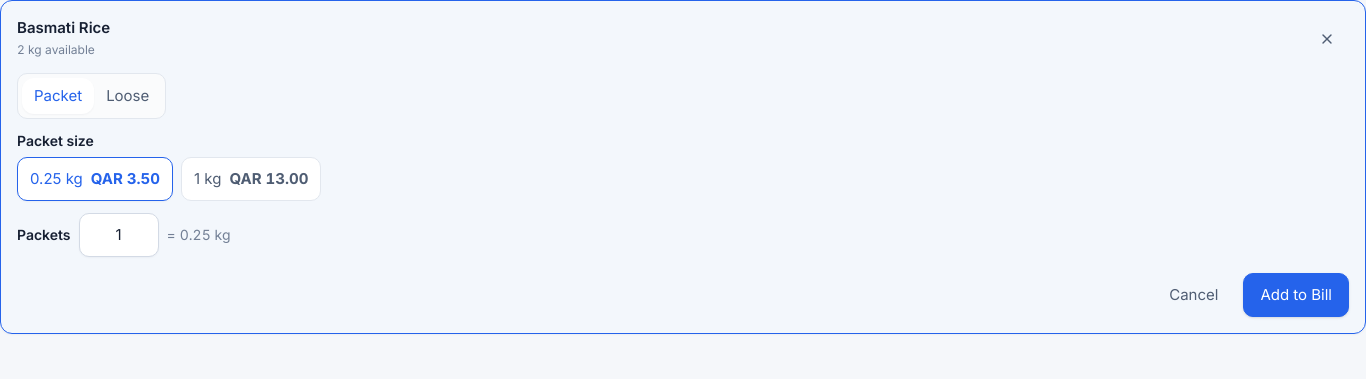
Test case: PricingPanel › rejects a packet count whose total exceeds the shared pool
Step 1. Click the button "1 kg" → (251, 179), box [181,157,321,201]
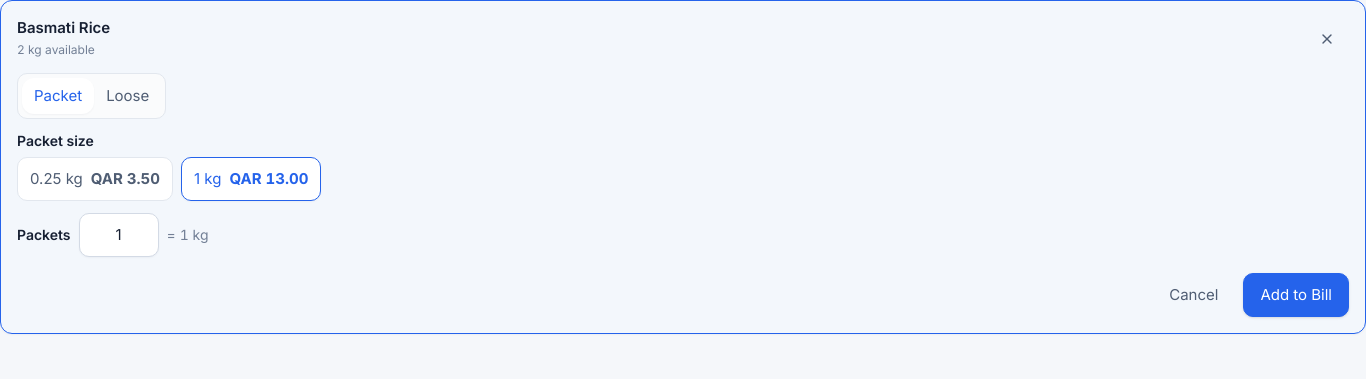
Step 2. Replace the text in the field labelled "Packets" with "3" → (119, 235), box [79,213,159,257]
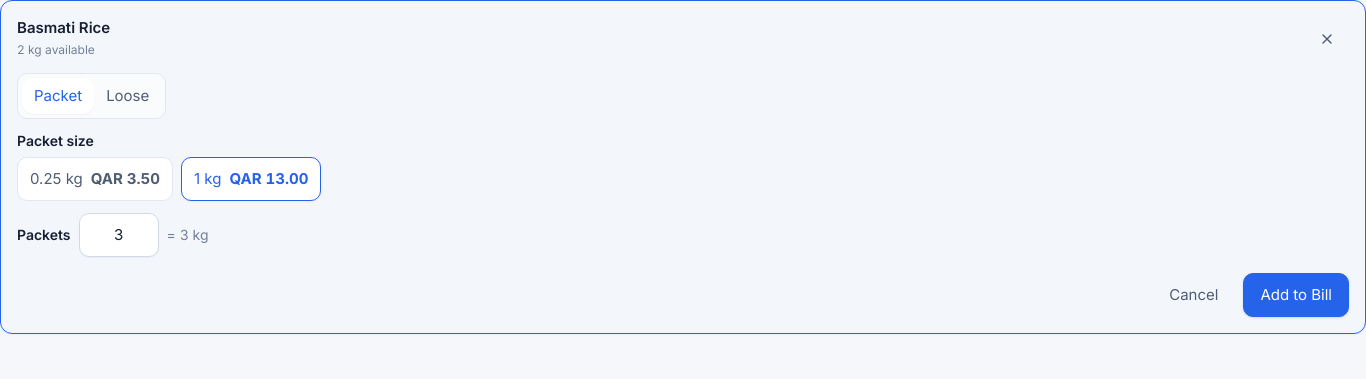
Step 3. Click the button "Add to Bill" → (1296, 295), box [1243,273,1349,317]
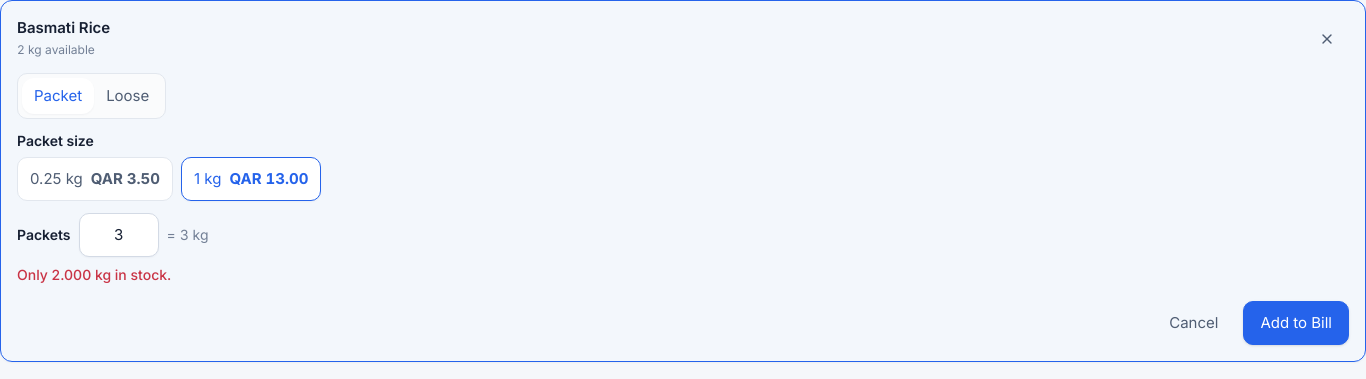
expect the message reads "Only 2.000 kg in stock.": met, box [17,266,171,283]
